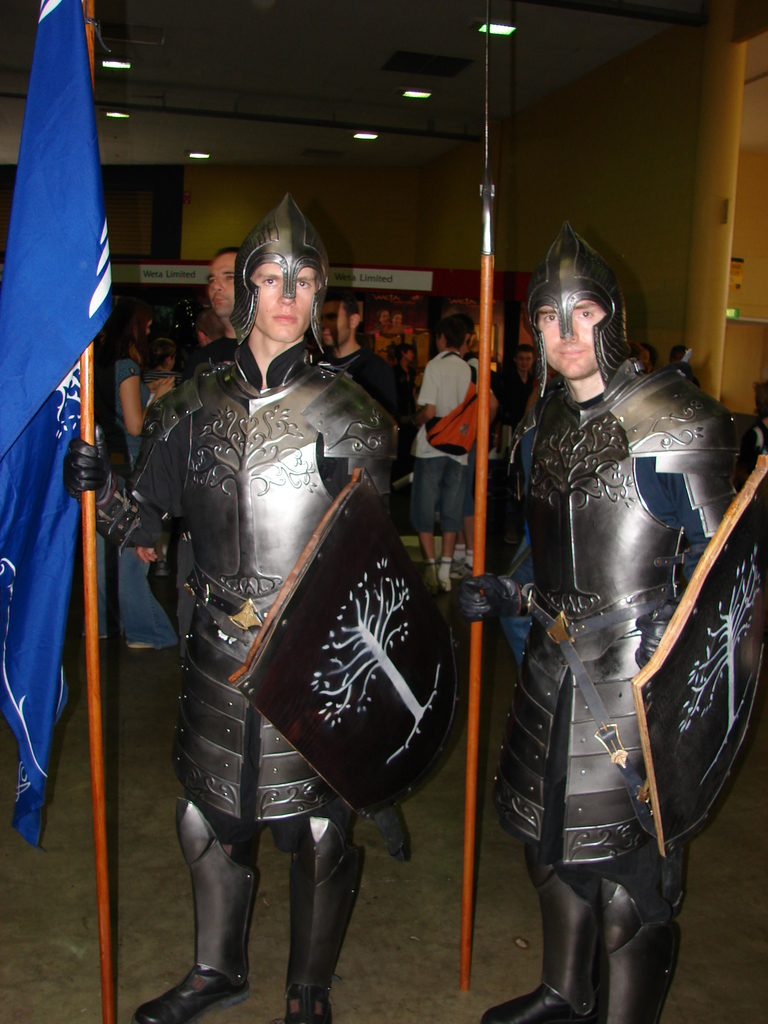Person: (63, 192, 768, 1023)
